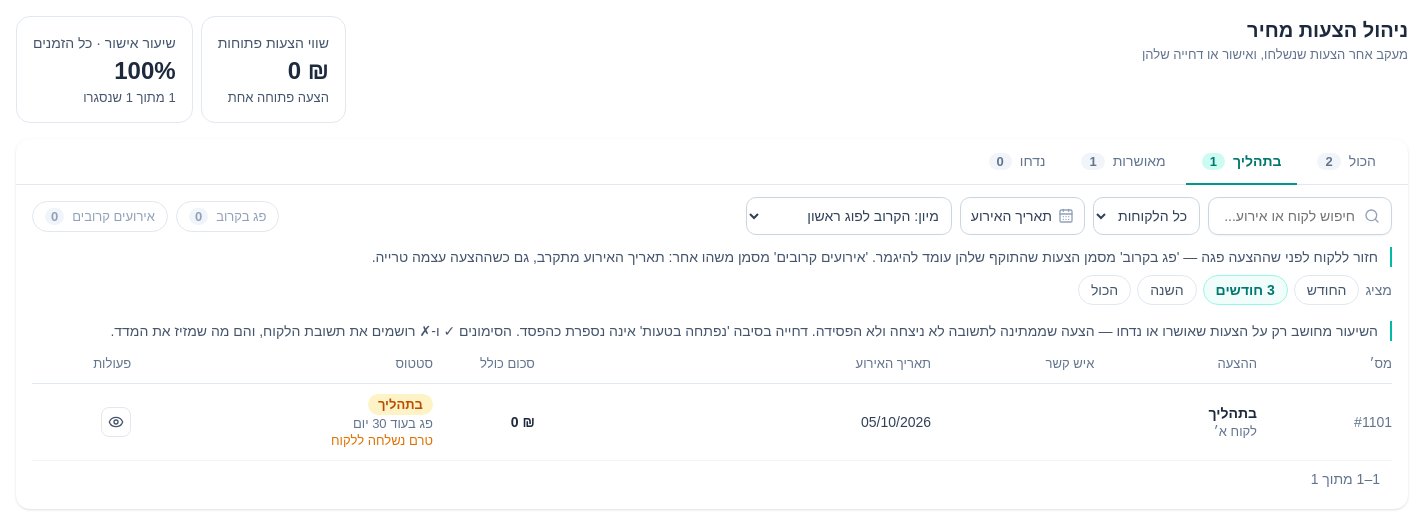
Test: מצב 2: `quotes.expiringVsEventSoon` רק כש"פג בקרוב" מוצג › בתהליך — מוצג · מאושרות (רק "אירועים קרובים") — לא
Expected: the row with test id "quote-row-1101" is shown, x1=32 y1=383 x2=1392 y2=460
Expected: the button with test id "quotes-chip-expiring" is shown, x1=176 y1=201 x2=280 y2=232
Click the button with test id "quotes-tab-approved".
click(1124, 162)  # box x1=1066 y1=139 x2=1182 y2=185
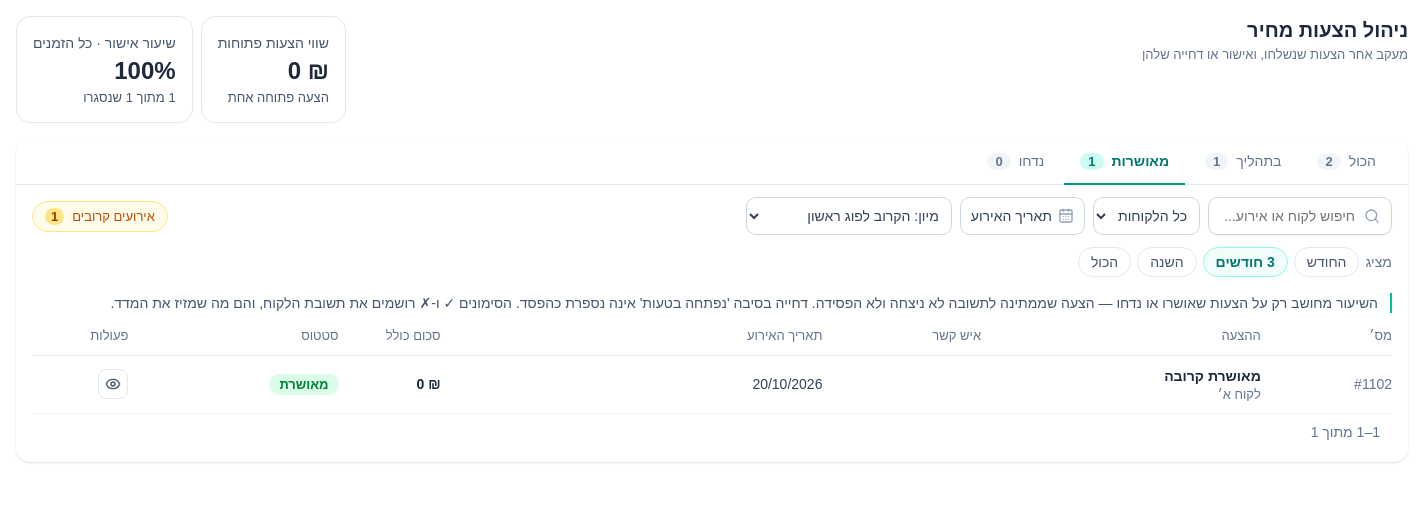
Expected: the button with test id "quotes-chip-event-soon" is shown, x1=32 y1=201 x2=168 y2=232
Result: the row with test id "quote-row-1102" is shown at x1=32 y1=355 x2=1392 y2=413
Result: the button with test id "quotes-chip-expiring" is gone
